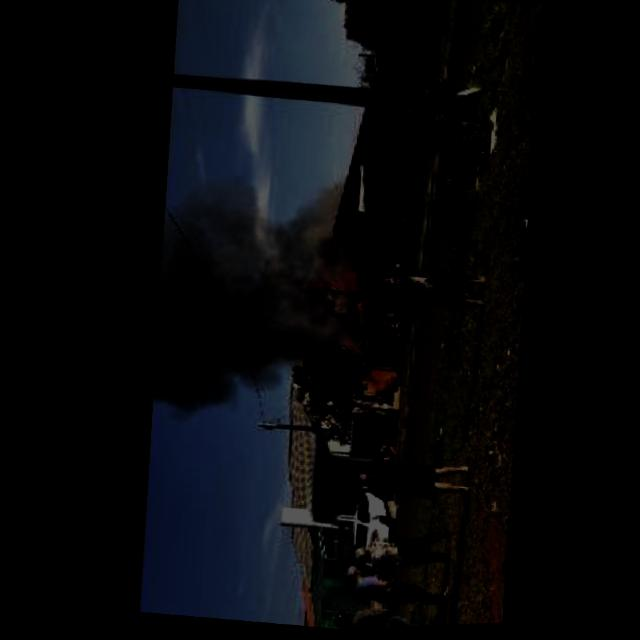Fire: (287, 261, 361, 328), (354, 366, 400, 405)
Smoke: (133, 186, 316, 429)
